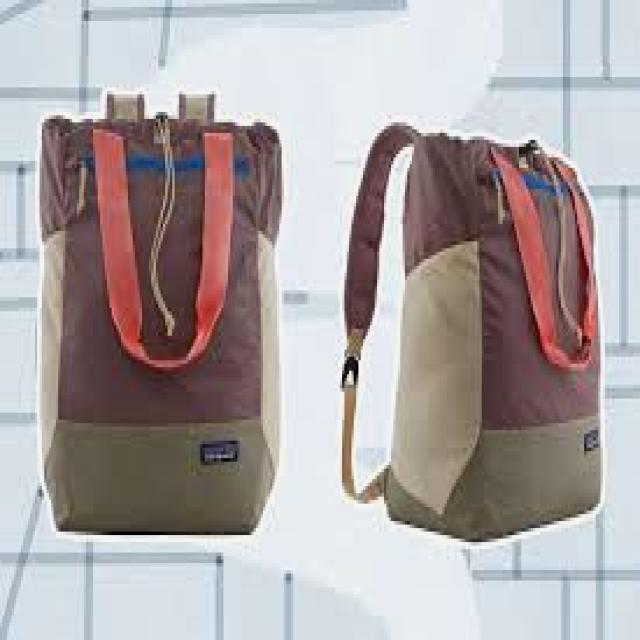backpack: (341, 120, 604, 543), (37, 110, 283, 536)
